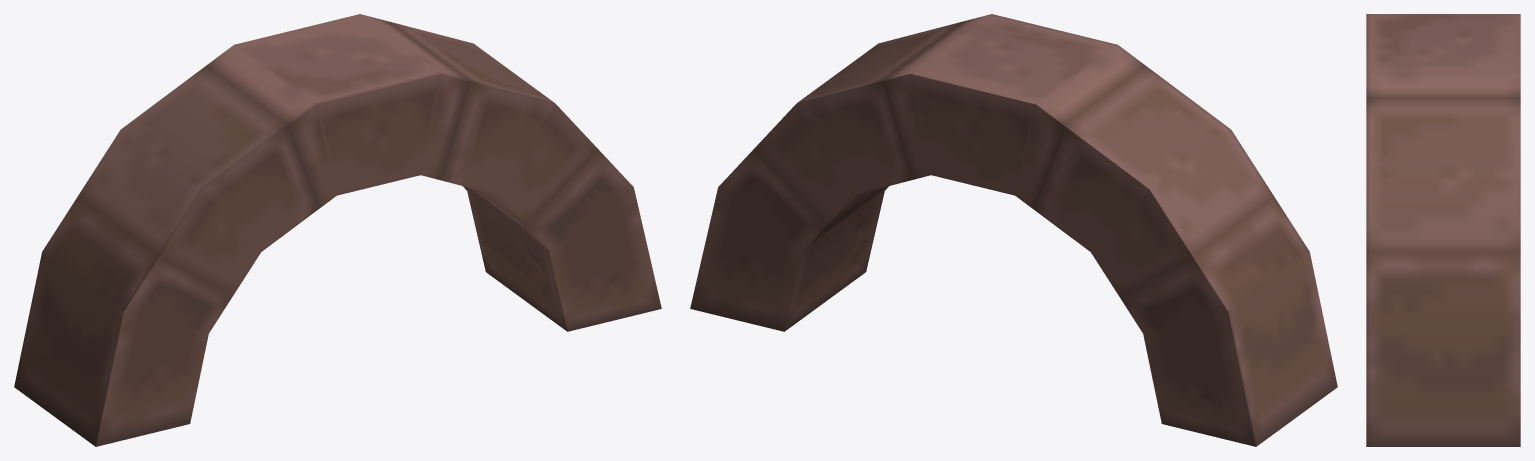
Rendered from arch_01_red.fbx.
The picture shows the model from 3 angles, left to right: view 1: azimuth 30°, elevation 25°; view 2: azimuth 150°, elevation 25°; view 3: azimuth 270°, elevation 25°; orthographic projection. The views are drawn at different scales.
Visible parts, largest first — view 1: arch_01_red; view 2: arch_01_red; view 3: arch_01_red.
Boxes of the visible parts, x1,y1,x2,y2 form: arch_01_red: (14, 14, 661, 446); arch_01_red: (690, 14, 1337, 446); arch_01_red: (1366, 14, 1520, 446).
Size of the model in its own units: 48 by 23.4 by 12.
